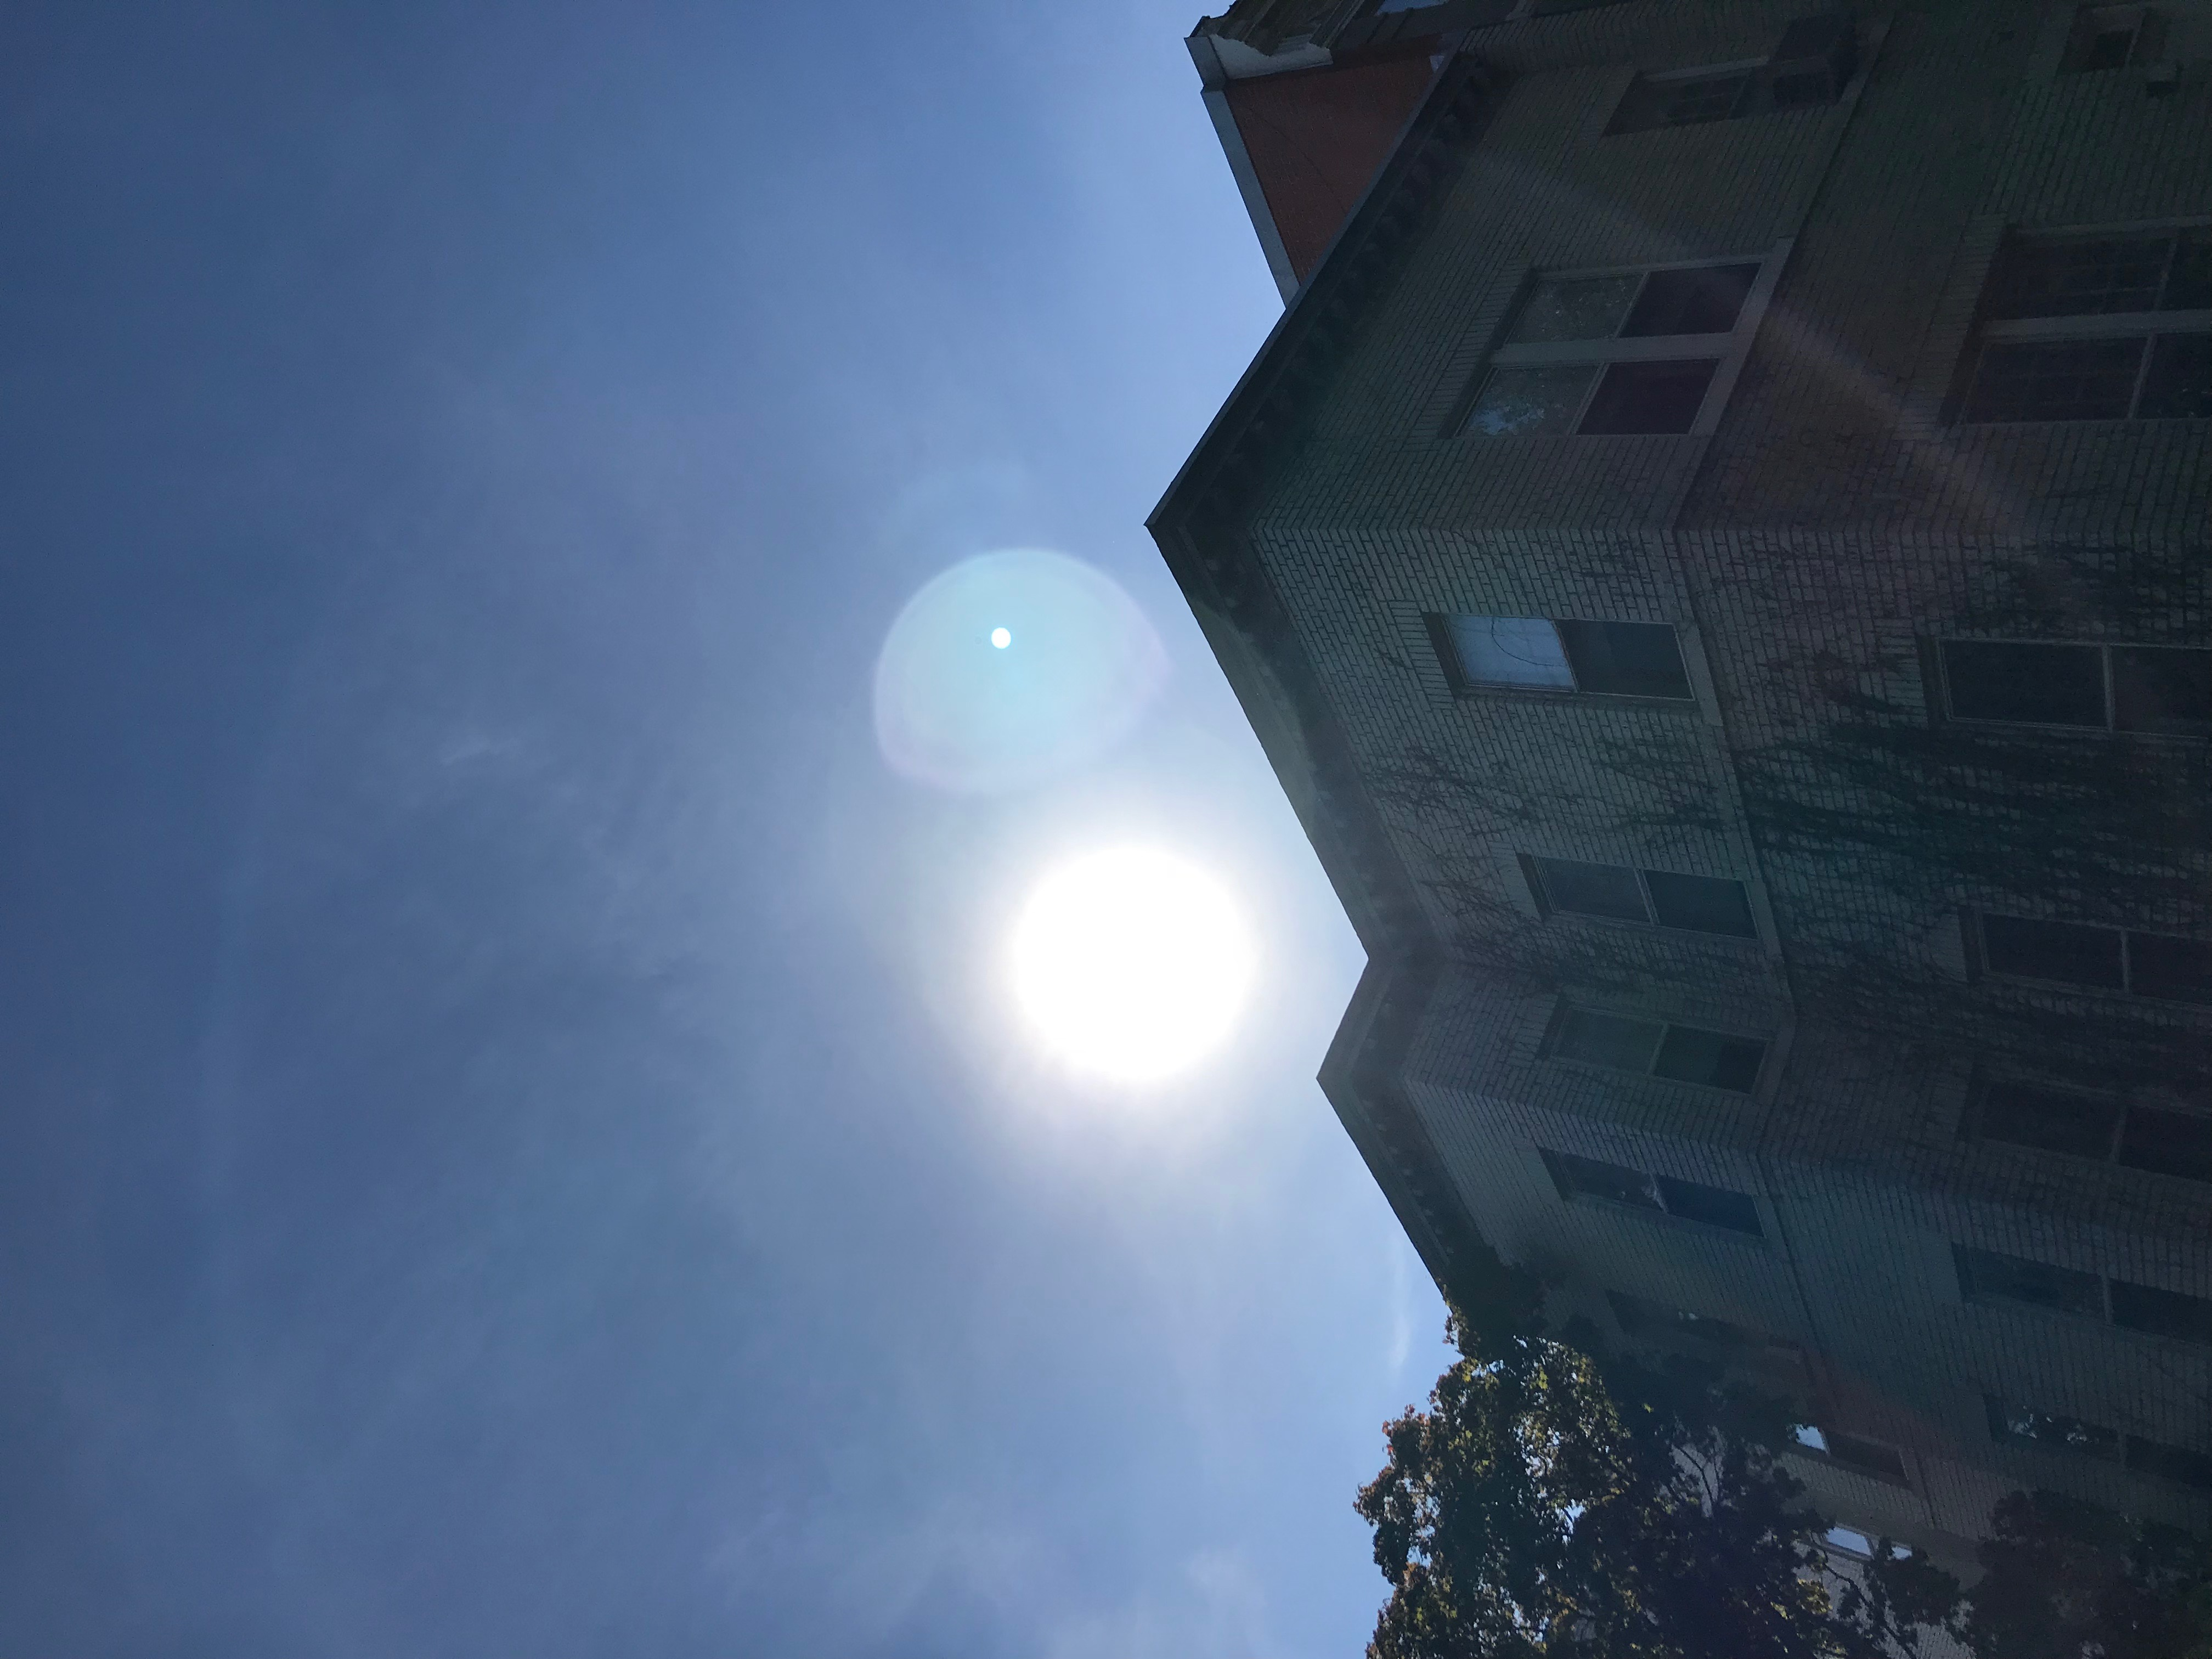flare: (991, 626, 1014, 652)
